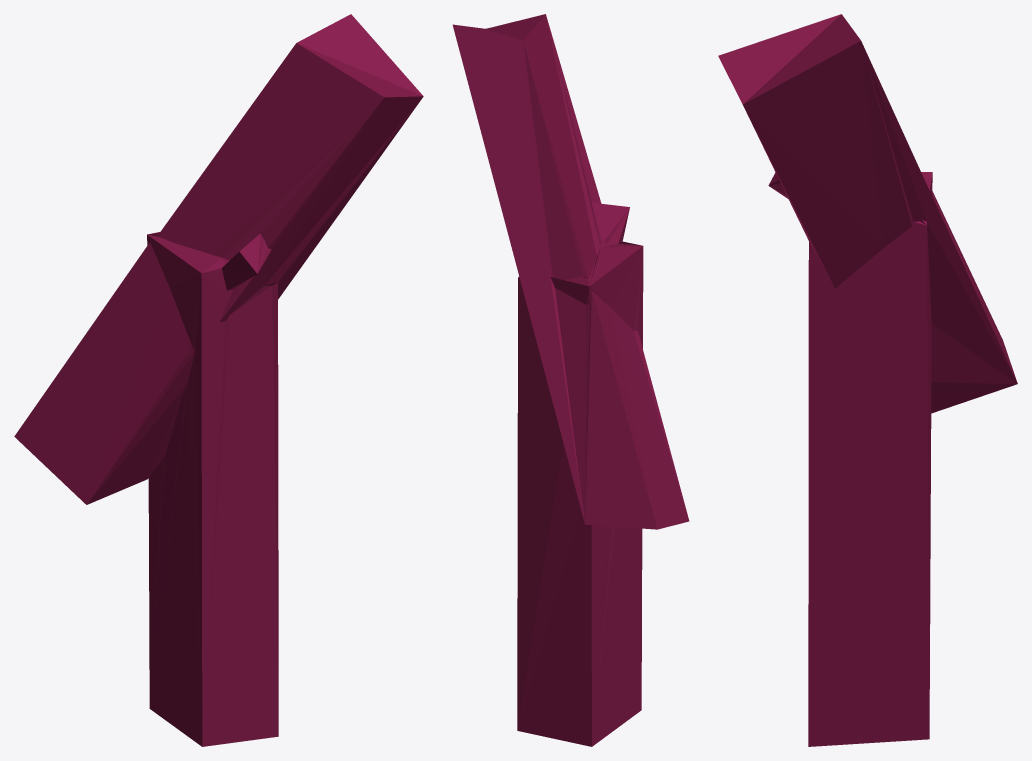
The picture shows the model from 3 angles, left to right: view 1: azimuth 30°, elevation 25°; view 2: azimuth 150°, elevation 25°; view 3: azimuth 270°, elevation 25°; orthographic projection. The views are drawn at different scales.
Visible parts, largest first — view 1: 806_Cube.3247; view 2: 806_Cube.3247; view 3: 806_Cube.3247.
Boxes of the visible parts, x1=… form: 806_Cube.3247: x1=14, y1=14, x2=423, y2=746; 806_Cube.3247: x1=452, y1=14, x2=689, y2=746; 806_Cube.3247: x1=718, y1=14, x2=1017, y2=746.
Bounding box in the file's own units: 7.71 × 17.22 × 6.15.
